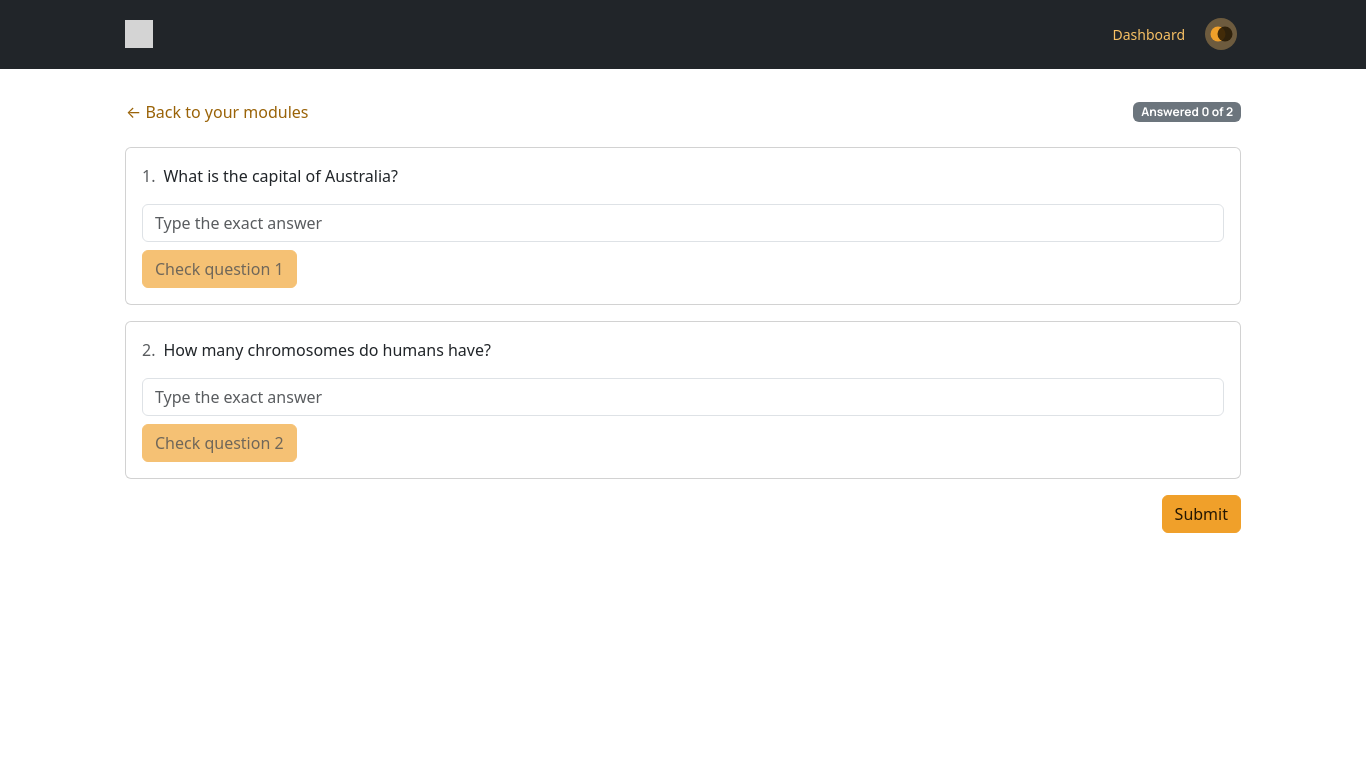
it: identification page › sends the trimmed answer to the server
The width and height of the screenshot is (1366, 768).
expect the text "What is the capital of Australia?" is shown: met, box [164,165,398,187]
Type "  Canberra  " into the field named "Answer for question 1" at (683, 223), box [142,204,1224,242]
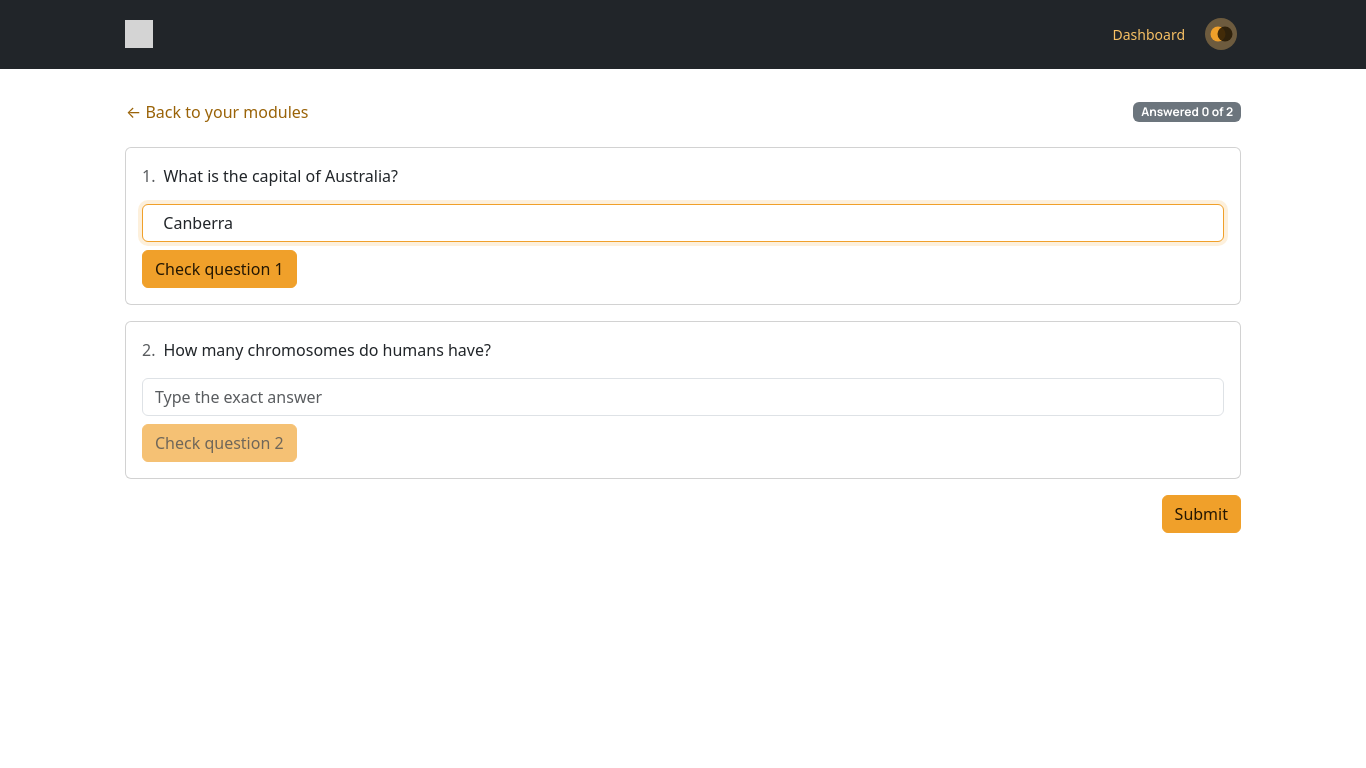
Click the button "Check question 1" at (219, 269), box [142,250,297,288]
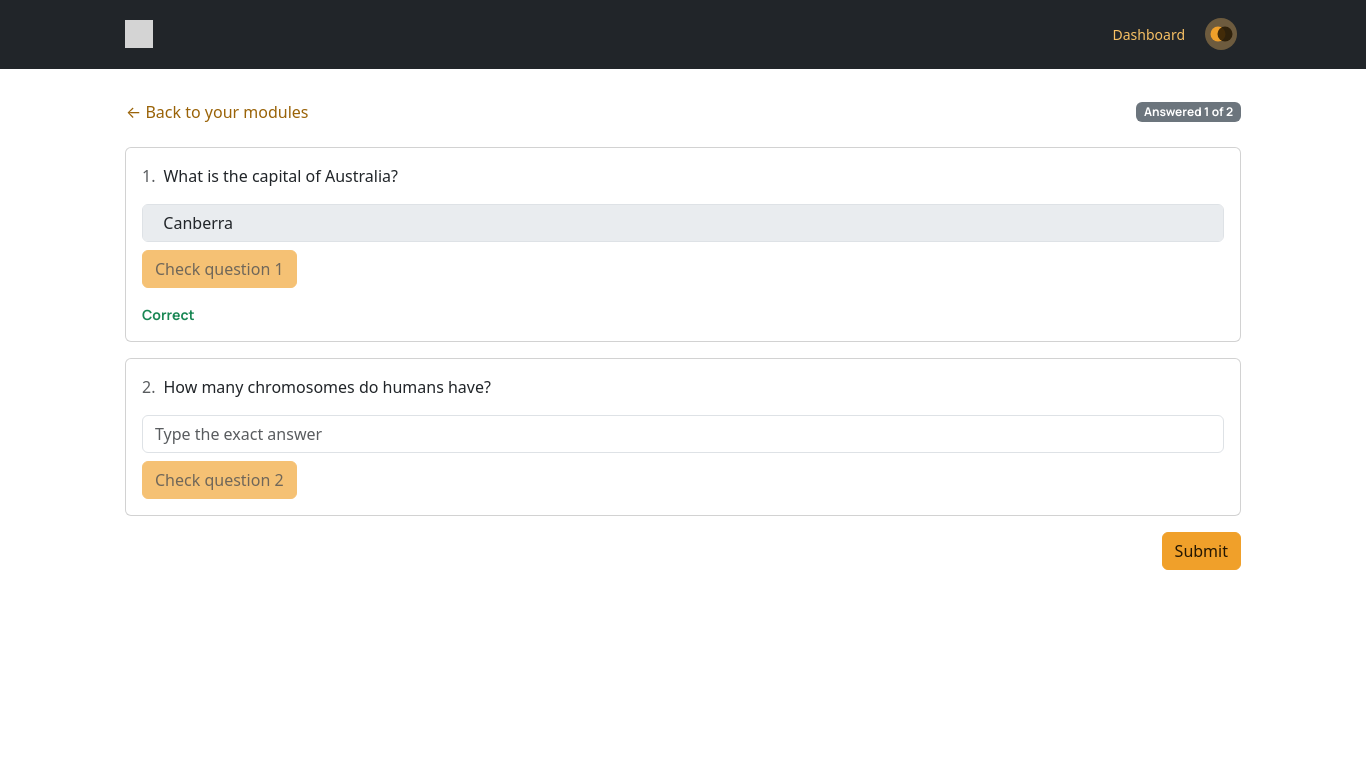
expect the text "Correct" is shown: met, box [142,305,195,324]
